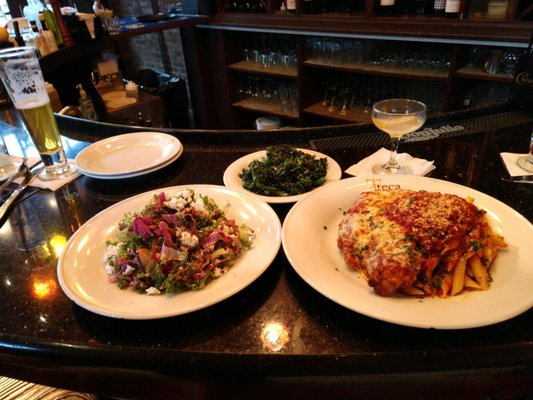pizza: (0, 48, 79, 182), (433, 132, 487, 188)
sushi: (60, 184, 282, 322), (223, 145, 344, 206)
